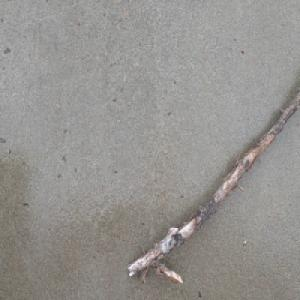Wood: (126, 90, 300, 285)
